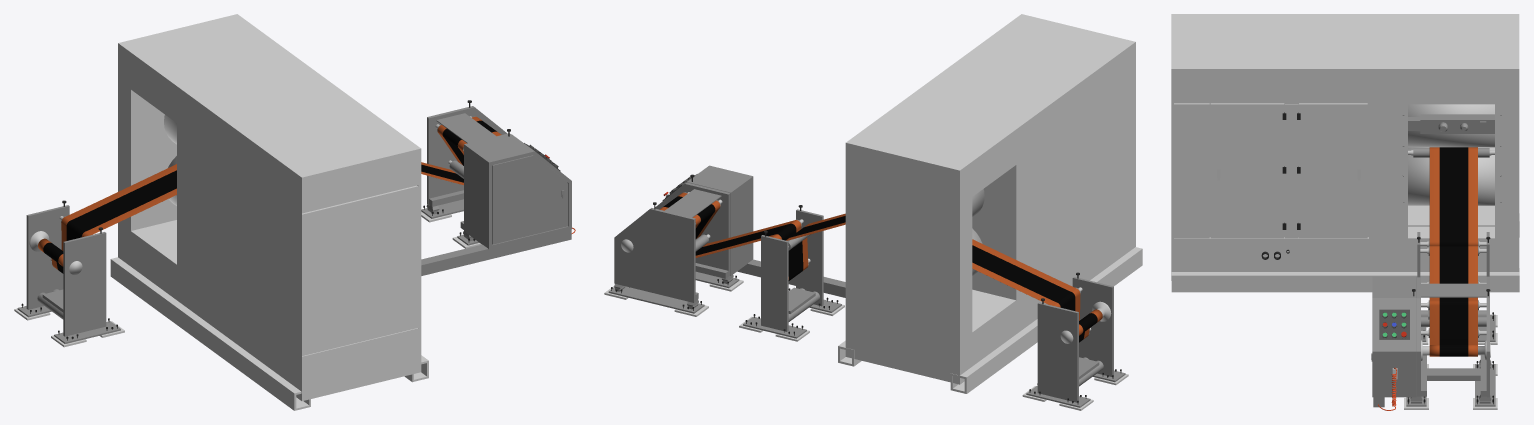
Rendered from 압연공정찐찐찐최종수정.fbx.
3 renders of one model, left to right at view 1: azimuth 30°, elevation 25°; view 2: azimuth 150°, elevation 25°; view 3: azimuth 270°, elevation 25°, orthographic. The views are drawn at different scales.
Parts seen in each view (by area): view 1: 본체, 코일(슬러지); view 2: 본체, 코일(슬러지); view 3: 본체, 코일(슬러지), bloller(1), broller(2), sroller(8).
Boxes of the visible parts, <box> form: 본체: <box>14,14,575,410</box>; 코일(슬러지): <box>38,116,501,273</box>; 본체: <box>604,14,1142,410</box>; 코일(슬러지): <box>660,192,1102,342</box>; 본체: <box>1171,14,1519,410</box>; 코일(슬러지): <box>1429,147,1477,356</box>; bloller(1): <box>1408,104,1494,147</box>; broller(2): <box>1408,147,1494,205</box>; sroller(8): <box>1408,148,1494,157</box>.
Size of the model in its own units: 1209 by 533 by 766.
